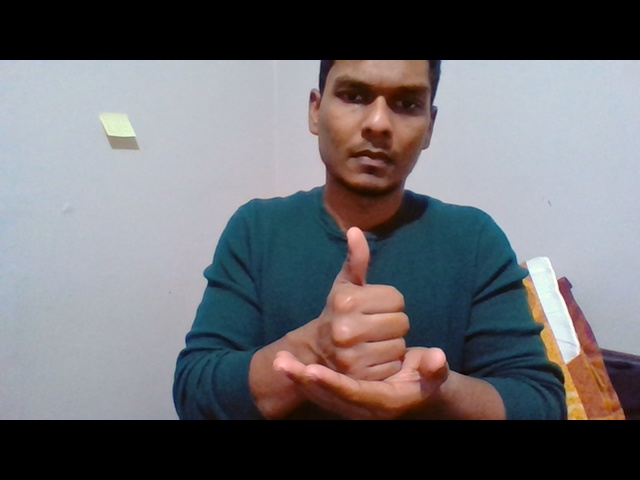Help: (267, 224, 454, 421)
